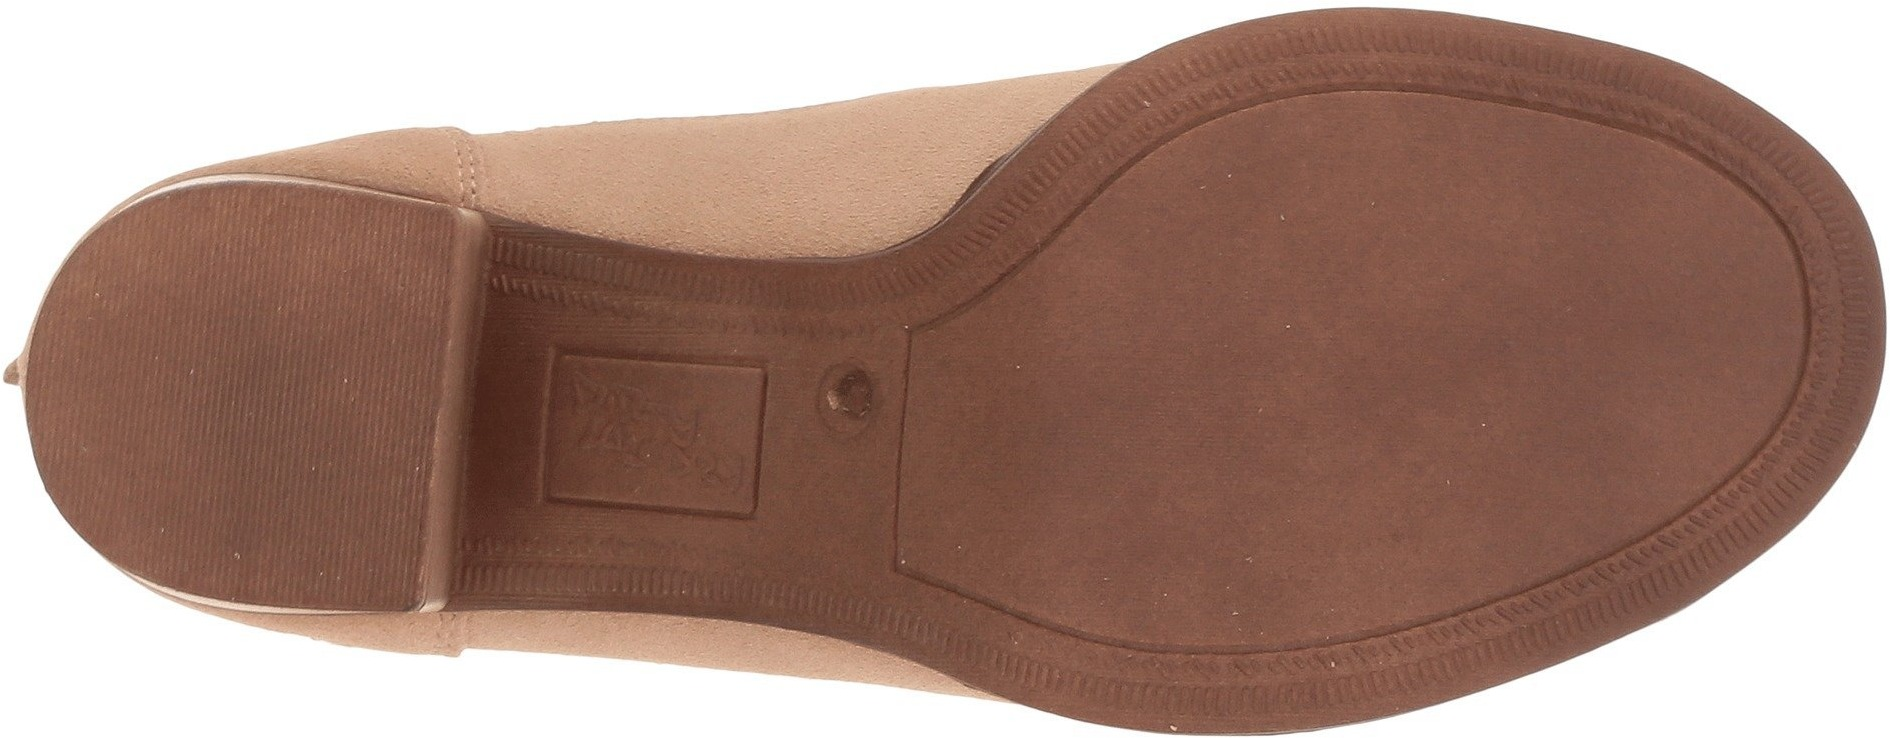other: (1229, 150, 1596, 537), (80, 263, 357, 534), (961, 336, 1220, 556), (1603, 242, 1777, 406)
